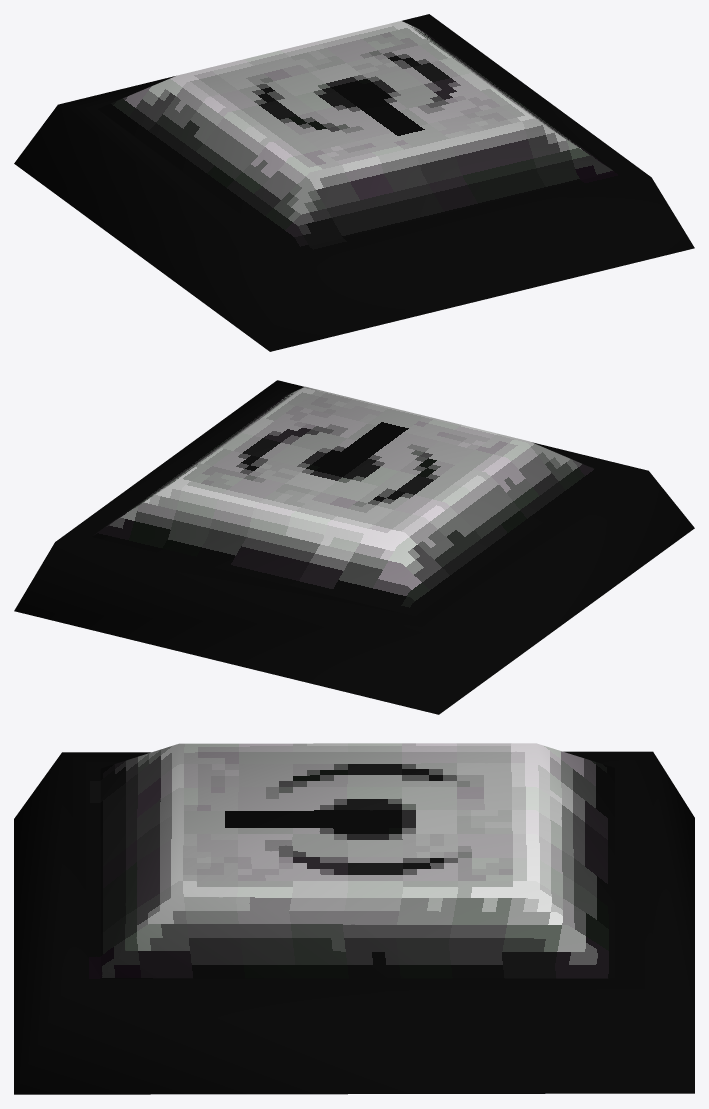
File: button_square_small_send.dae
The picture shows the model from 3 angles, top to bottom: view 1: azimuth 30°, elevation 25°; view 2: azimuth 150°, elevation 25°; view 3: azimuth 270°, elevation 25°; orthographic projection. The views are drawn at different scales.
Visible parts, largest first — view 1: frame, button; view 2: frame, button; view 3: button, frame.
Boxes of the visible parts, x1,y1,x2,y2 form: frame: [14, 14, 694, 351]; button: [97, 21, 614, 250]; frame: [14, 380, 694, 714]; button: [91, 386, 608, 616]; button: [100, 743, 614, 978]; frame: [14, 751, 694, 1094].
Bounding box in the file's own units: 0.0929 × 0.0225 × 0.097.
